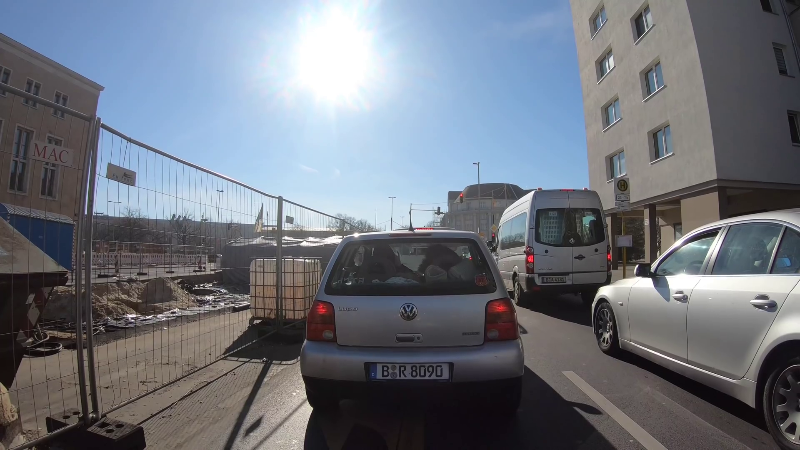Plate: (364, 360, 452, 382), (539, 275, 568, 283)
